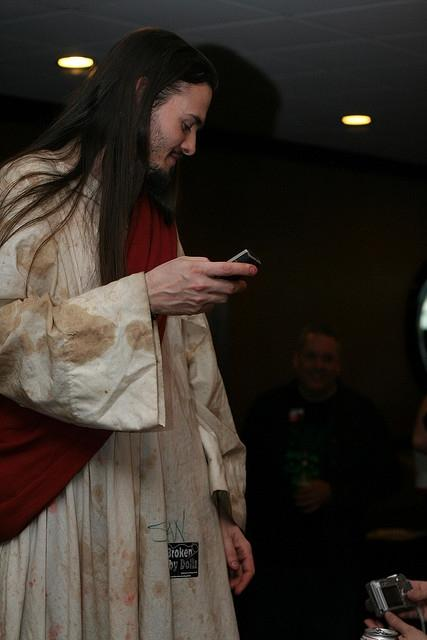strawberry: (2, 185, 178, 542)
